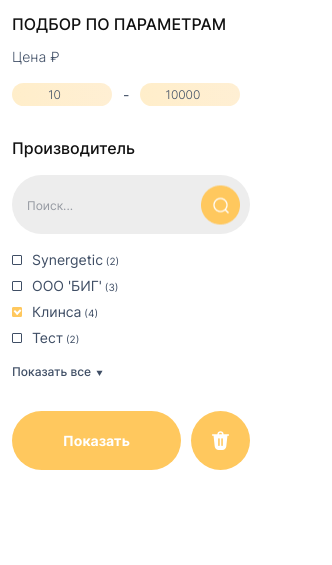
Test: Parameters.test › Test click on button "show more"
This screenshot has width=332, height=565.
Expected: the element with test id "checkboxList" does not show "Consly", [12,251,119,346]
Click the text "Показать все" at (52, 372), box [12,363,91,381]
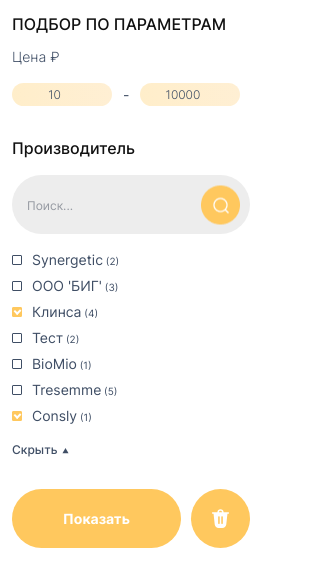
Expected: the element with test id "checkboxList" shows "Consly", [32,407,77,424]
